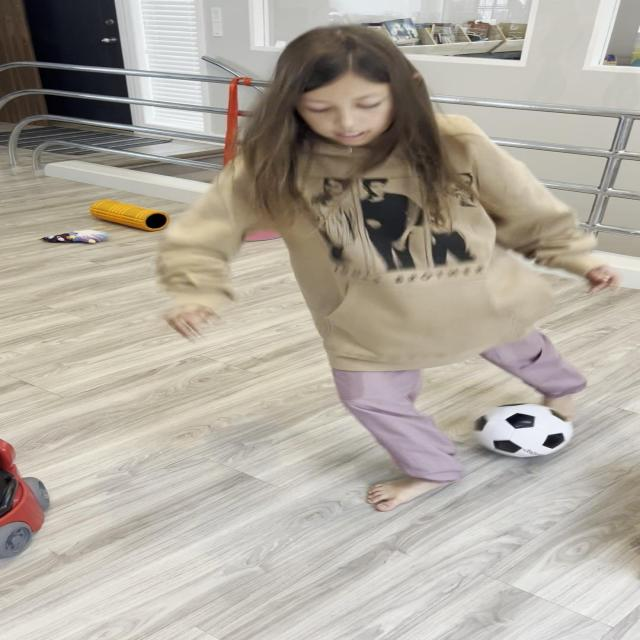Soccer Ball: (474, 402, 572, 458)
